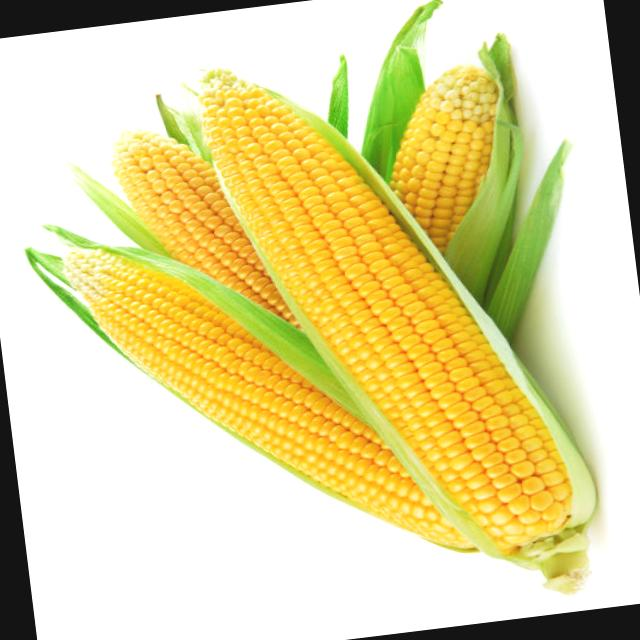corn: (200, 74, 588, 595), (63, 239, 475, 554)
